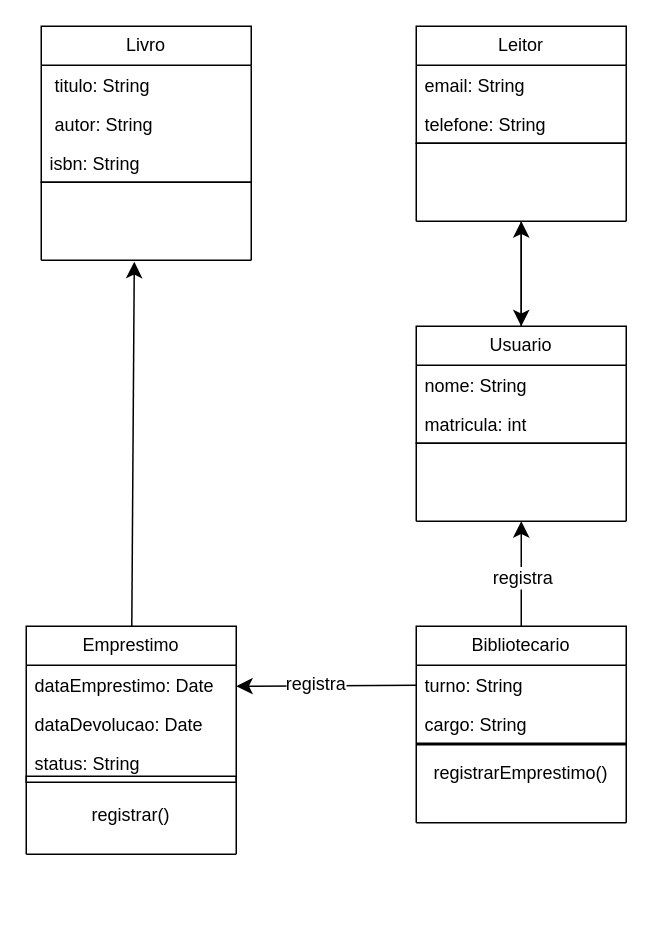
Some shapes in this 653 by 951 pixel diagram are drawn without their labels. The shapes that lost their labels are listed below. From the top down, each one's centre as x and y in pixels, then its label:
At (520,181): "realizarEmprestimo()".
At (145,220): "+ consultarDisponibilidade()".
At (520,481): "autenticar()".
